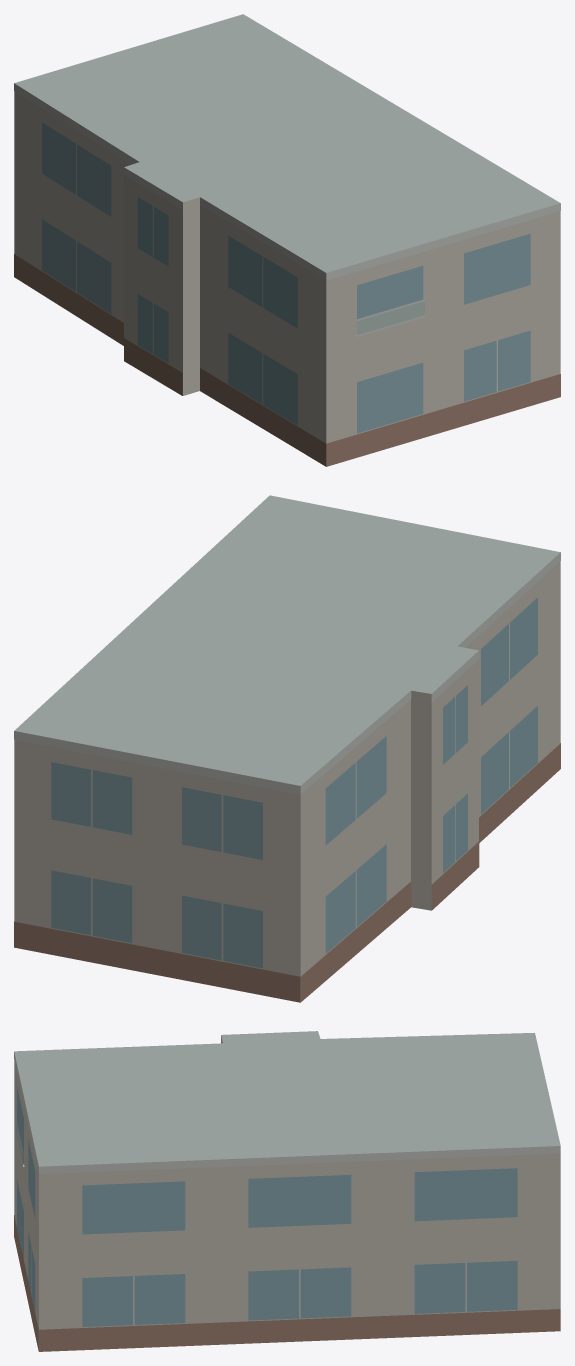
Rendered from survey-upis-32923462.glb.
3 renders of one model, top to bottom at view 1: azimuth 30°, elevation 25°; view 2: azimuth 150°, elevation 25°; view 3: azimuth 270°, elevation 25°, orthographic. The views are drawn at different scales.
Visible parts, largest first — view 1: survey-upis-32923462.tmp; view 2: survey-upis-32923462.tmp; view 3: survey-upis-32923462.tmp.
Boxes of the visible parts, bbox=[...] form: survey-upis-32923462.tmp: bbox=[14, 14, 560, 466]; survey-upis-32923462.tmp: bbox=[14, 495, 560, 1002]; survey-upis-32923462.tmp: bbox=[14, 1031, 560, 1351].
Bounding box in the file's own units: 9.59 × 6.1 × 16.33.
